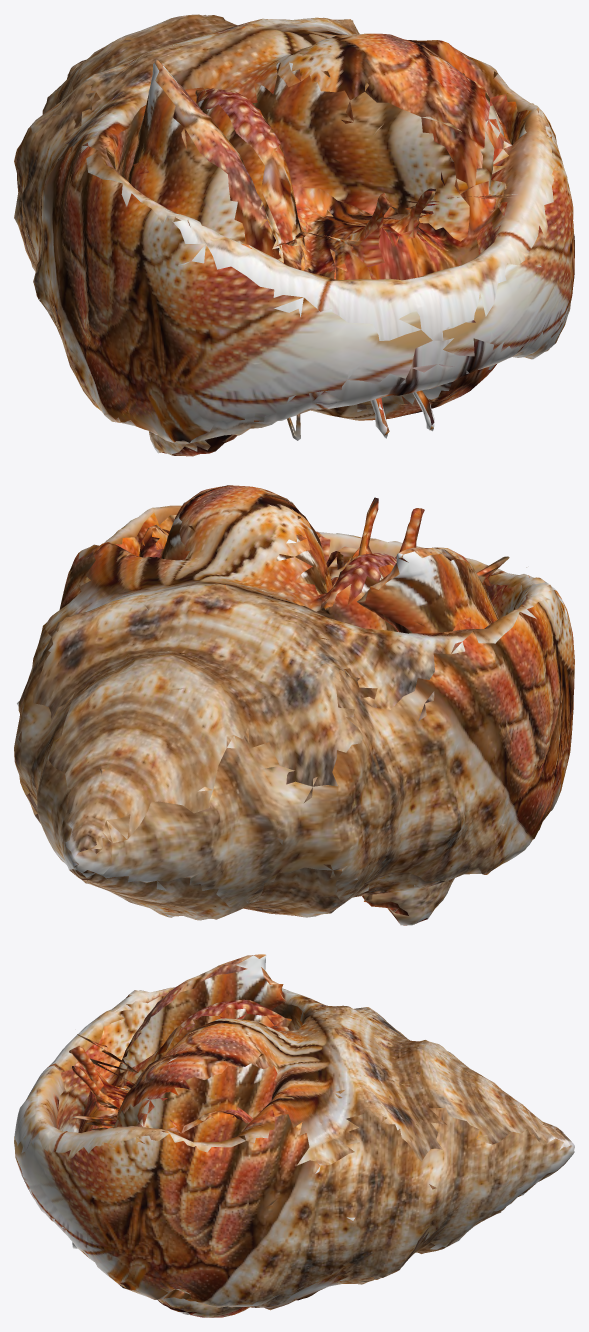
Rendered from fish_hermit.glb.
The picture shows the model from 3 angles, top to bottom: view 1: azimuth 30°, elevation 25°; view 2: azimuth 150°, elevation 25°; view 3: azimuth 270°, elevation 25°; orthographic projection. The views are drawn at different scales.
Parts seen in each view (by area): view 1: orient; view 2: orient; view 3: orient.
Part boxes in pixels (<box>): orient: <box>14,14,574,456</box>; orient: <box>14,485,574,925</box>; orient: <box>14,954,574,1317</box>.
Size of the model in its own units: 1.39 by 1.11 by 1.95.
Materials: 1 (1 with a texture image).
